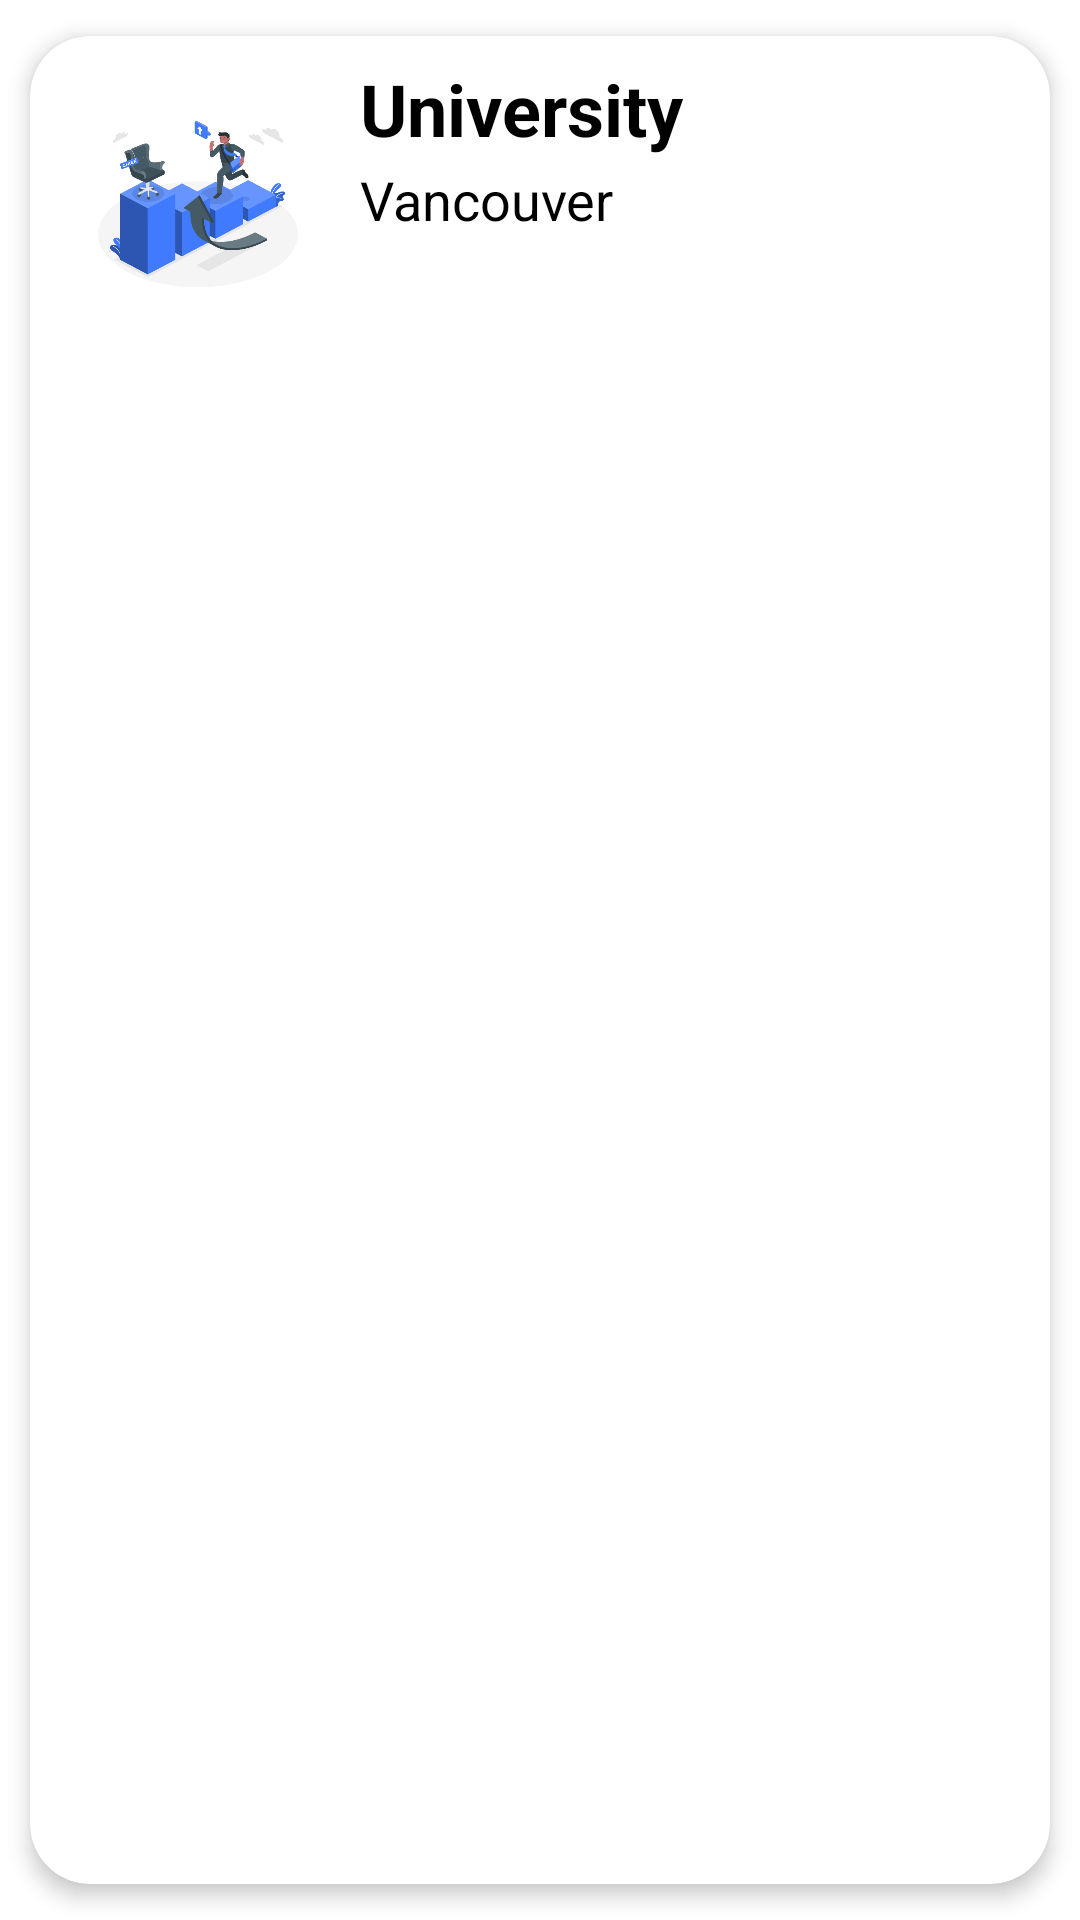

Where icons sit on this 1080×1920 app screen, as box=[x1, y1, x2, y2]:
career guide: box=[110, 121, 285, 277]
